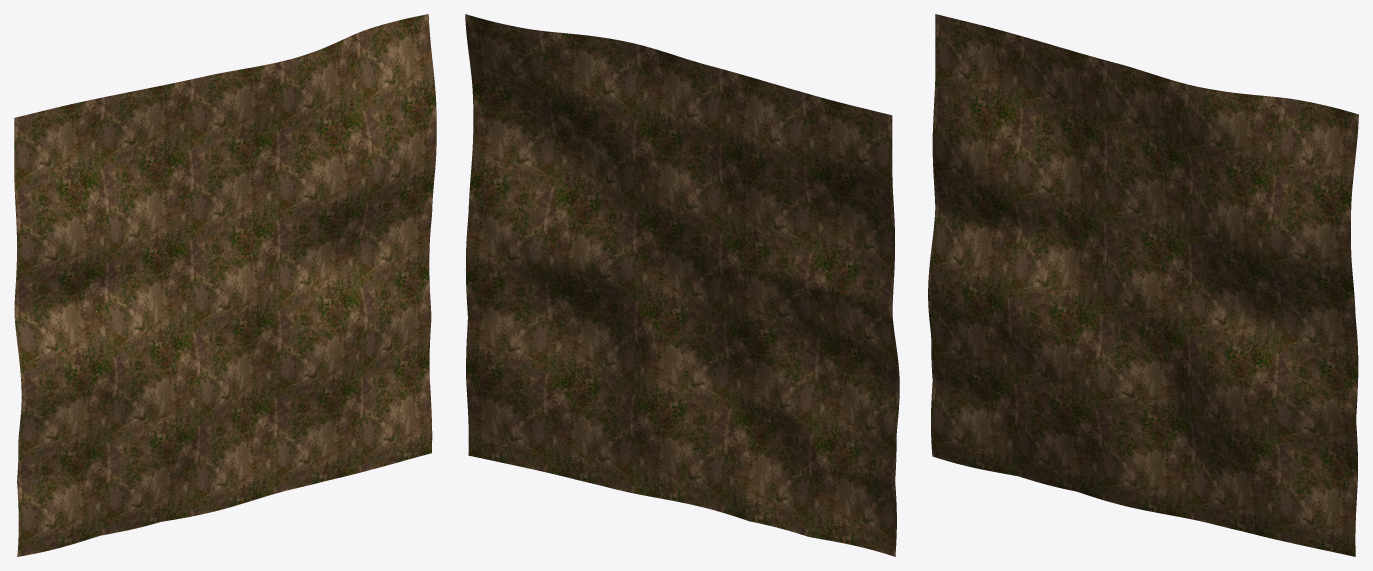
File: SimpleTerrain.fbx
3 renders of one model, left to right at view 1: azimuth 30°, elevation 25°; view 2: azimuth 150°, elevation 25°; view 3: azimuth 330°, elevation 25°, orthographic.
Visible parts, largest first — view 1: Terrain; view 2: Terrain; view 3: Terrain.
Boxes of the visible parts, box(x1,y1,x2,y2) form: Terrain: box(14, 14, 436, 556); Terrain: box(465, 14, 899, 556); Terrain: box(928, 14, 1358, 556).
Bounding box in the file's own units: 605 × 8000 × 8000.
